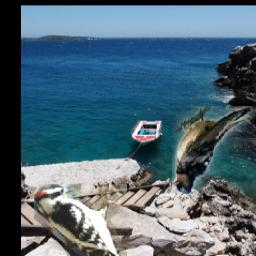Swallow: (173, 106, 256, 194)
Woodpecker: (35, 184, 128, 256)
